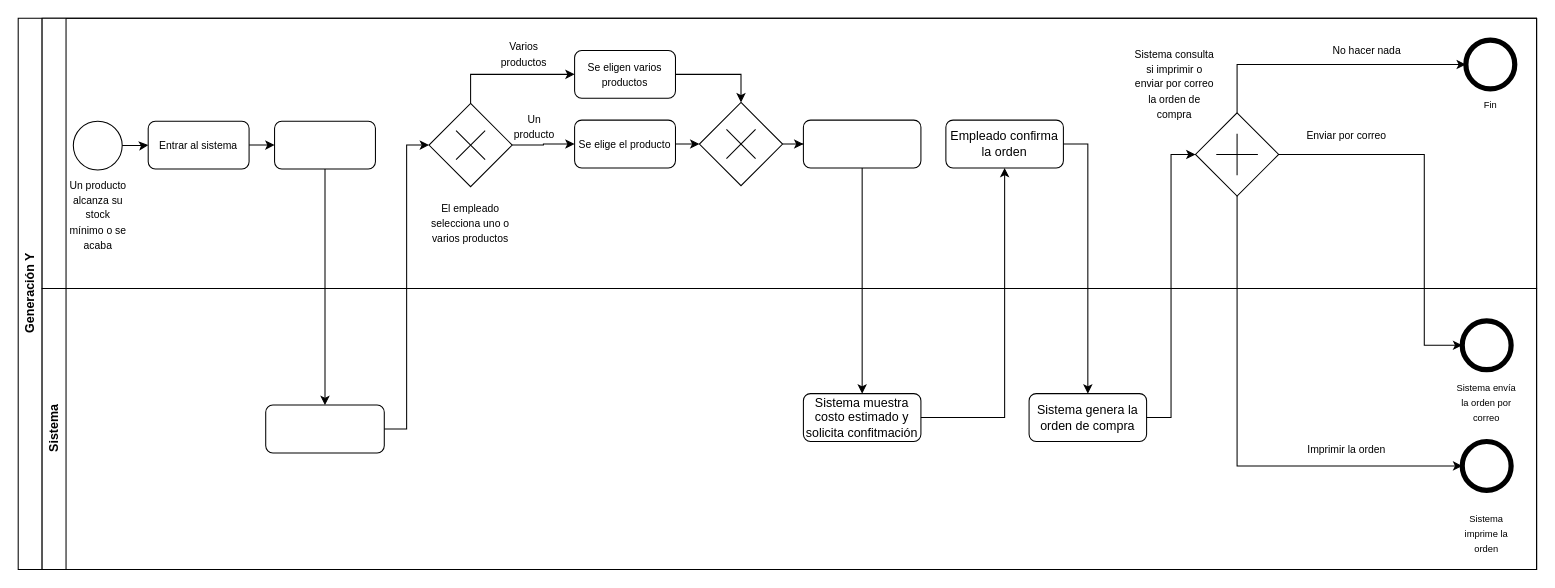
The diagram is 1555 pixels wide and 588 high, and some of its shapes have lost their labels. Here are the shapes that lost their labels. From the top down, the box of each, then its label:
(274, 120, 375, 169): Seleccionar opción "Generar orden de compra"
(41, 17, 1537, 289): Empledo
(802, 119, 921, 168): Empleado selecciona cantidad y proveedor.
(265, 404, 384, 453): Sistema muestra la interfaz para generar ordenes de compra
